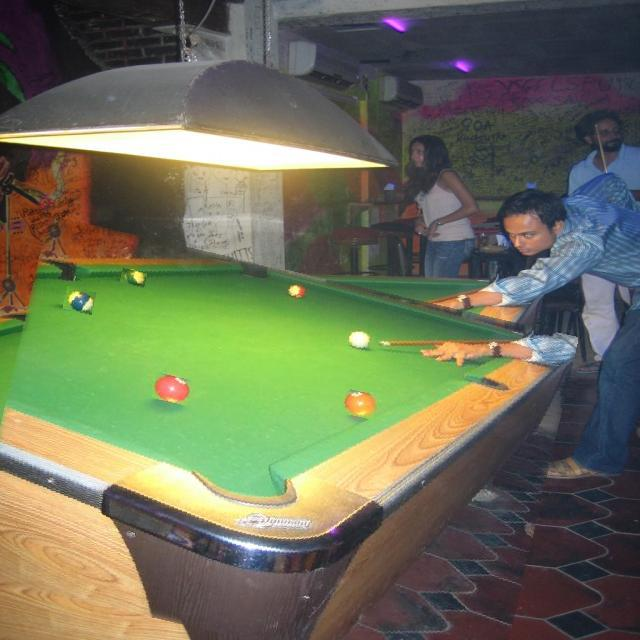Ball: (140, 399, 178, 427), (330, 373, 362, 398), (34, 335, 64, 360), (320, 311, 344, 332), (84, 306, 109, 321), (250, 284, 272, 297)
Billiard table: (0, 243, 561, 640)
